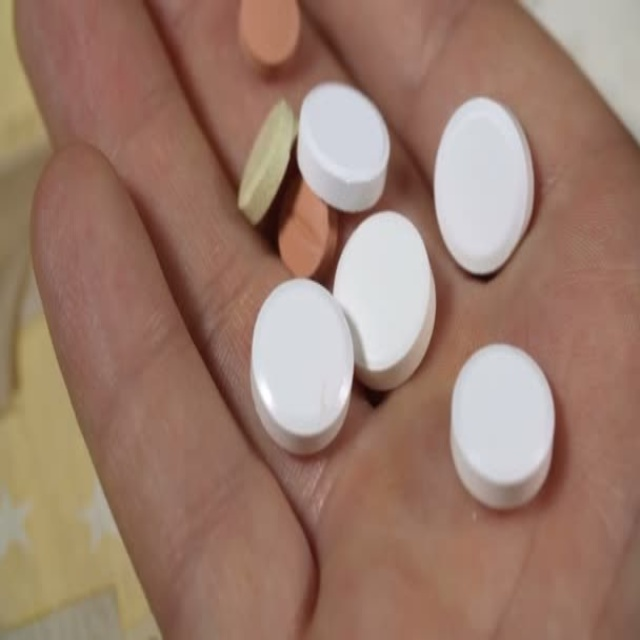pill: (315, 111, 415, 211), (411, 50, 511, 148), (237, 148, 336, 246), (429, 184, 529, 272), (282, 43, 373, 112), (263, 89, 322, 156), (224, 49, 279, 120), (224, 1, 287, 37)
